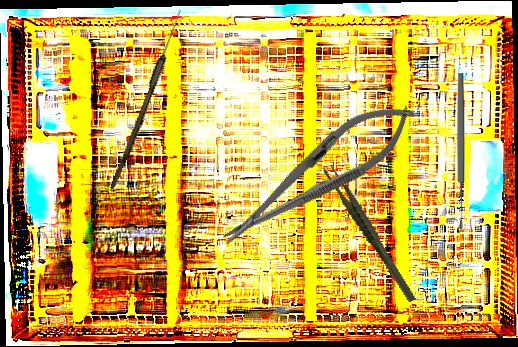Needle Holder: (207, 85, 428, 263)
Surgical Spoon: (109, 7, 185, 192), (456, 73, 465, 229)
Tissue Forceps: (322, 153, 417, 314)
